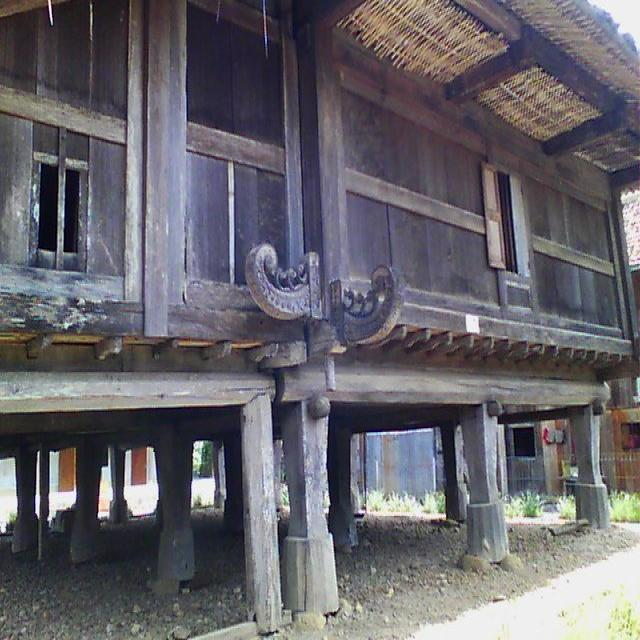Atap: (267, 1, 639, 186)
Tembok Bangunan: (0, 1, 635, 378)
